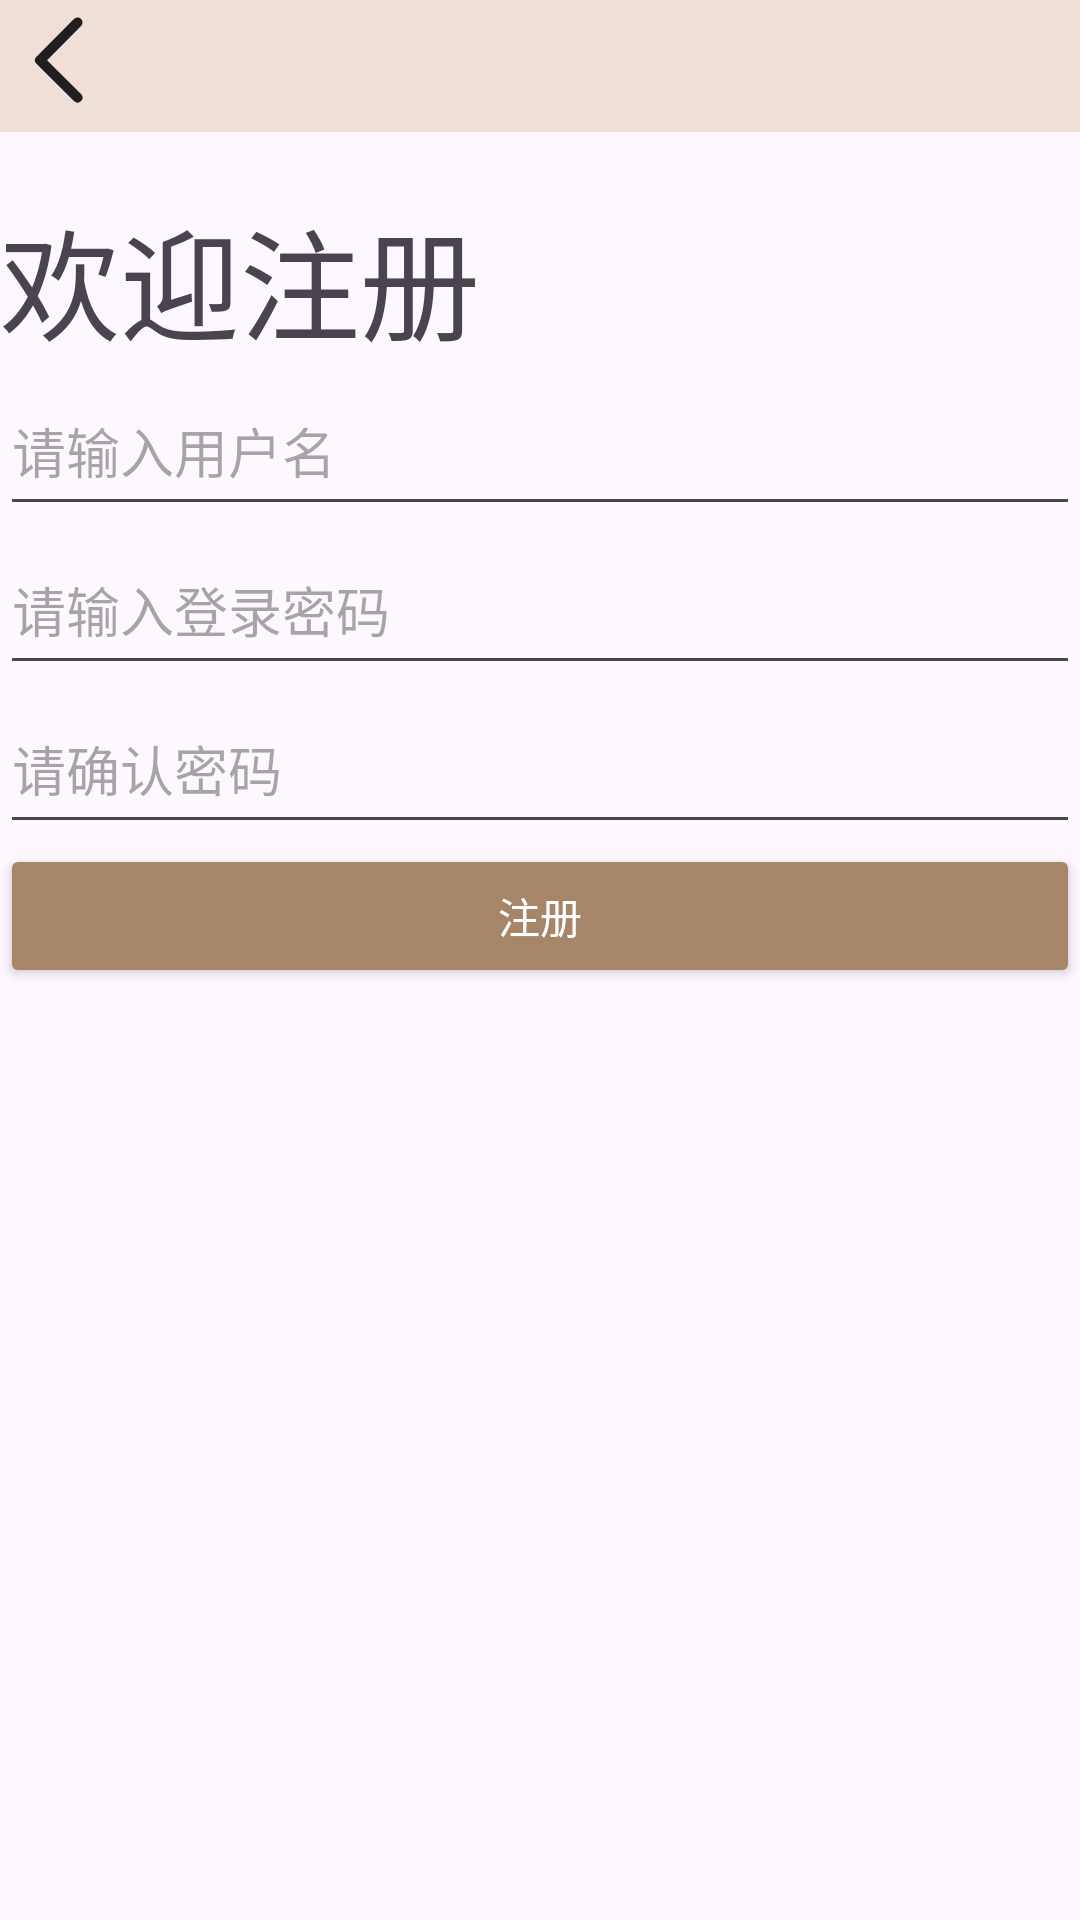

Locate icon controls on the screen. Image size 1080w x 1920h, boxes as [x1=x1, y1=y1, x2=x2, y2=y2].
back: [x1=34, y1=17, x2=83, y2=103]
